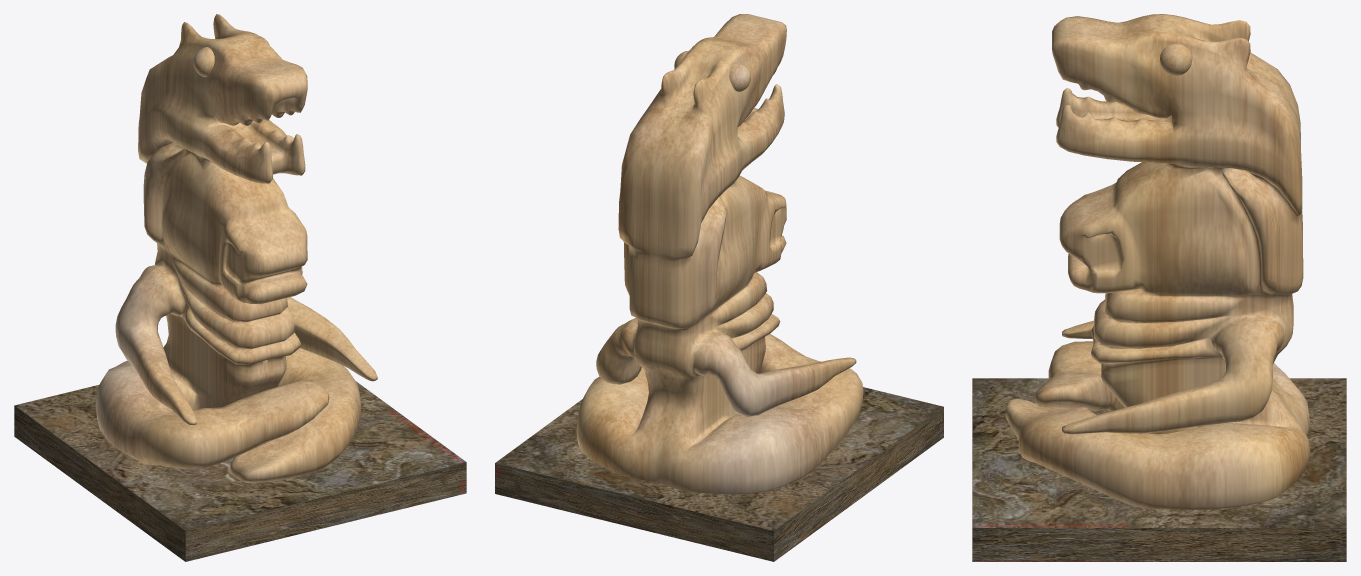
File: Figurine1.FBX
3 views of the same model, side by side, from view 1: azimuth 30°, elevation 25°; view 2: azimuth 150°, elevation 25°; view 3: azimuth 270°, elevation 25° (orthographic). The views are drawn at different scales.
Parts seen in each view (by area): view 1: Figurine1, Figurine_Base; view 2: Figurine1, Figurine_Base; view 3: Figurine1, Figurine_Base, LT_MonsterEye.
Part boxes in pixels (x1=…): Figurine1: x1=95, y1=14, x2=377, y2=482; Figurine_Base: x1=14, y1=381, x2=466, y2=561; Figurine1: x1=576, y1=14, x2=863, y2=494; Figurine_Base: x1=495, y1=387, x2=943, y2=561; Figurine1: x1=1005, y1=14, x2=1310, y2=509; Figurine_Base: x1=972, y1=378, x2=1346, y2=561; LT_MonsterEye: x1=1160, y1=43, x2=1192, y2=75.
Bounding box in the file's own units: 9.32 × 13.43 × 9.83.
2 materials, 2 textured.
